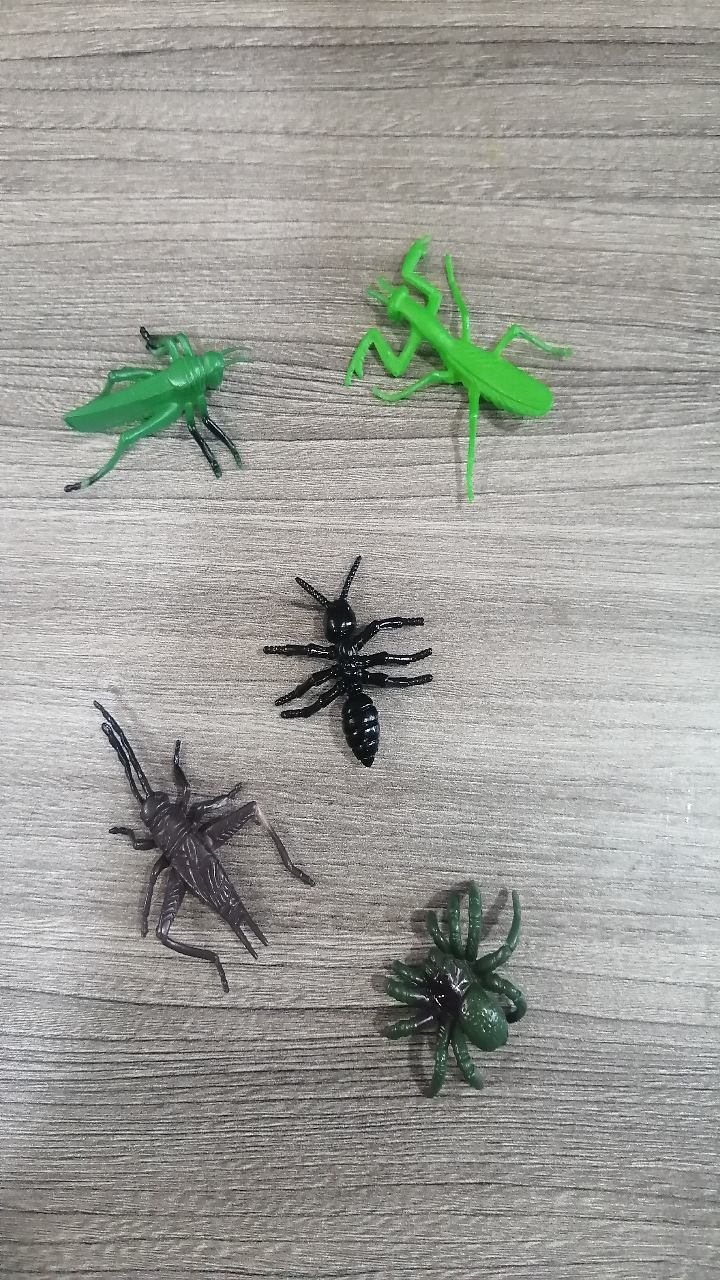intruso: (58, 675, 314, 995), (318, 217, 583, 522), (341, 851, 572, 1114), (255, 540, 468, 786), (28, 311, 263, 515)
